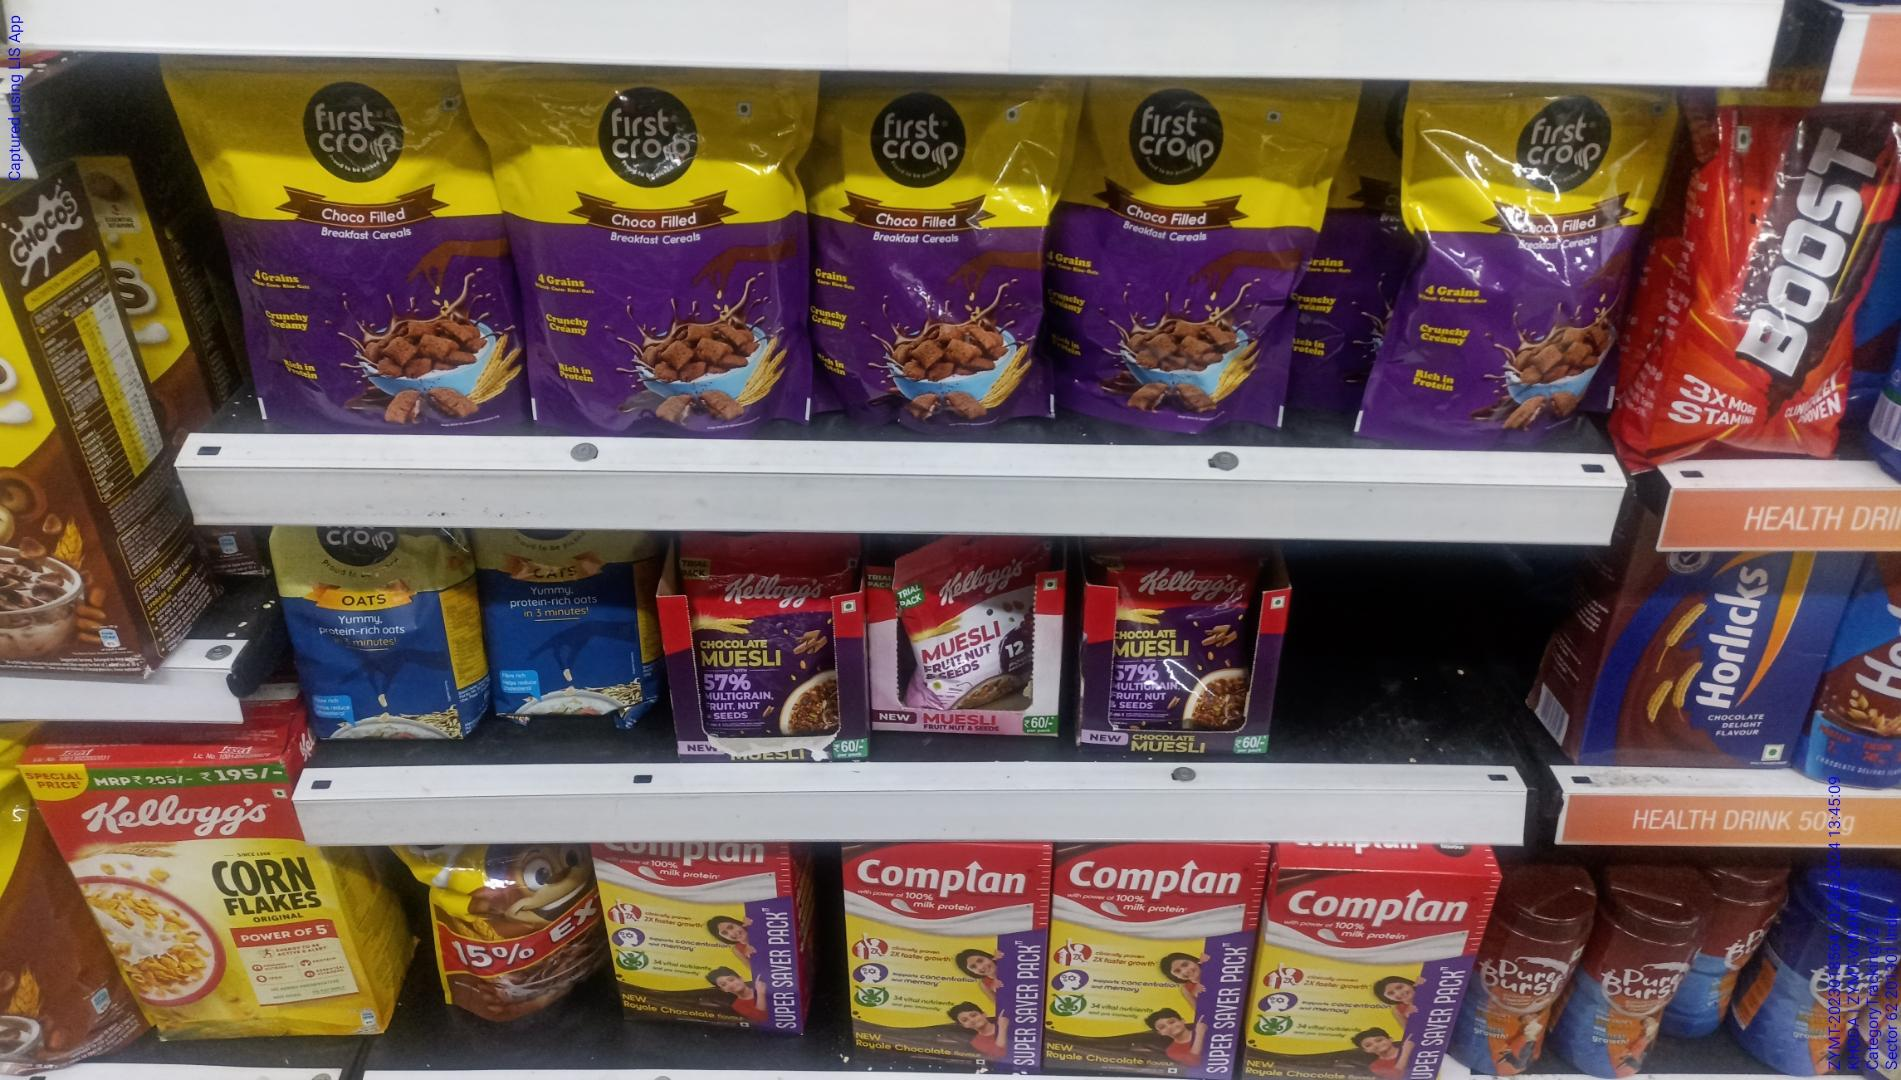COMPLAN_CHOCOLATE_1_KG_PACK: (1257, 868, 1483, 1080), (842, 840, 1041, 1080), (1054, 845, 1247, 1080), (607, 841, 795, 1028)
